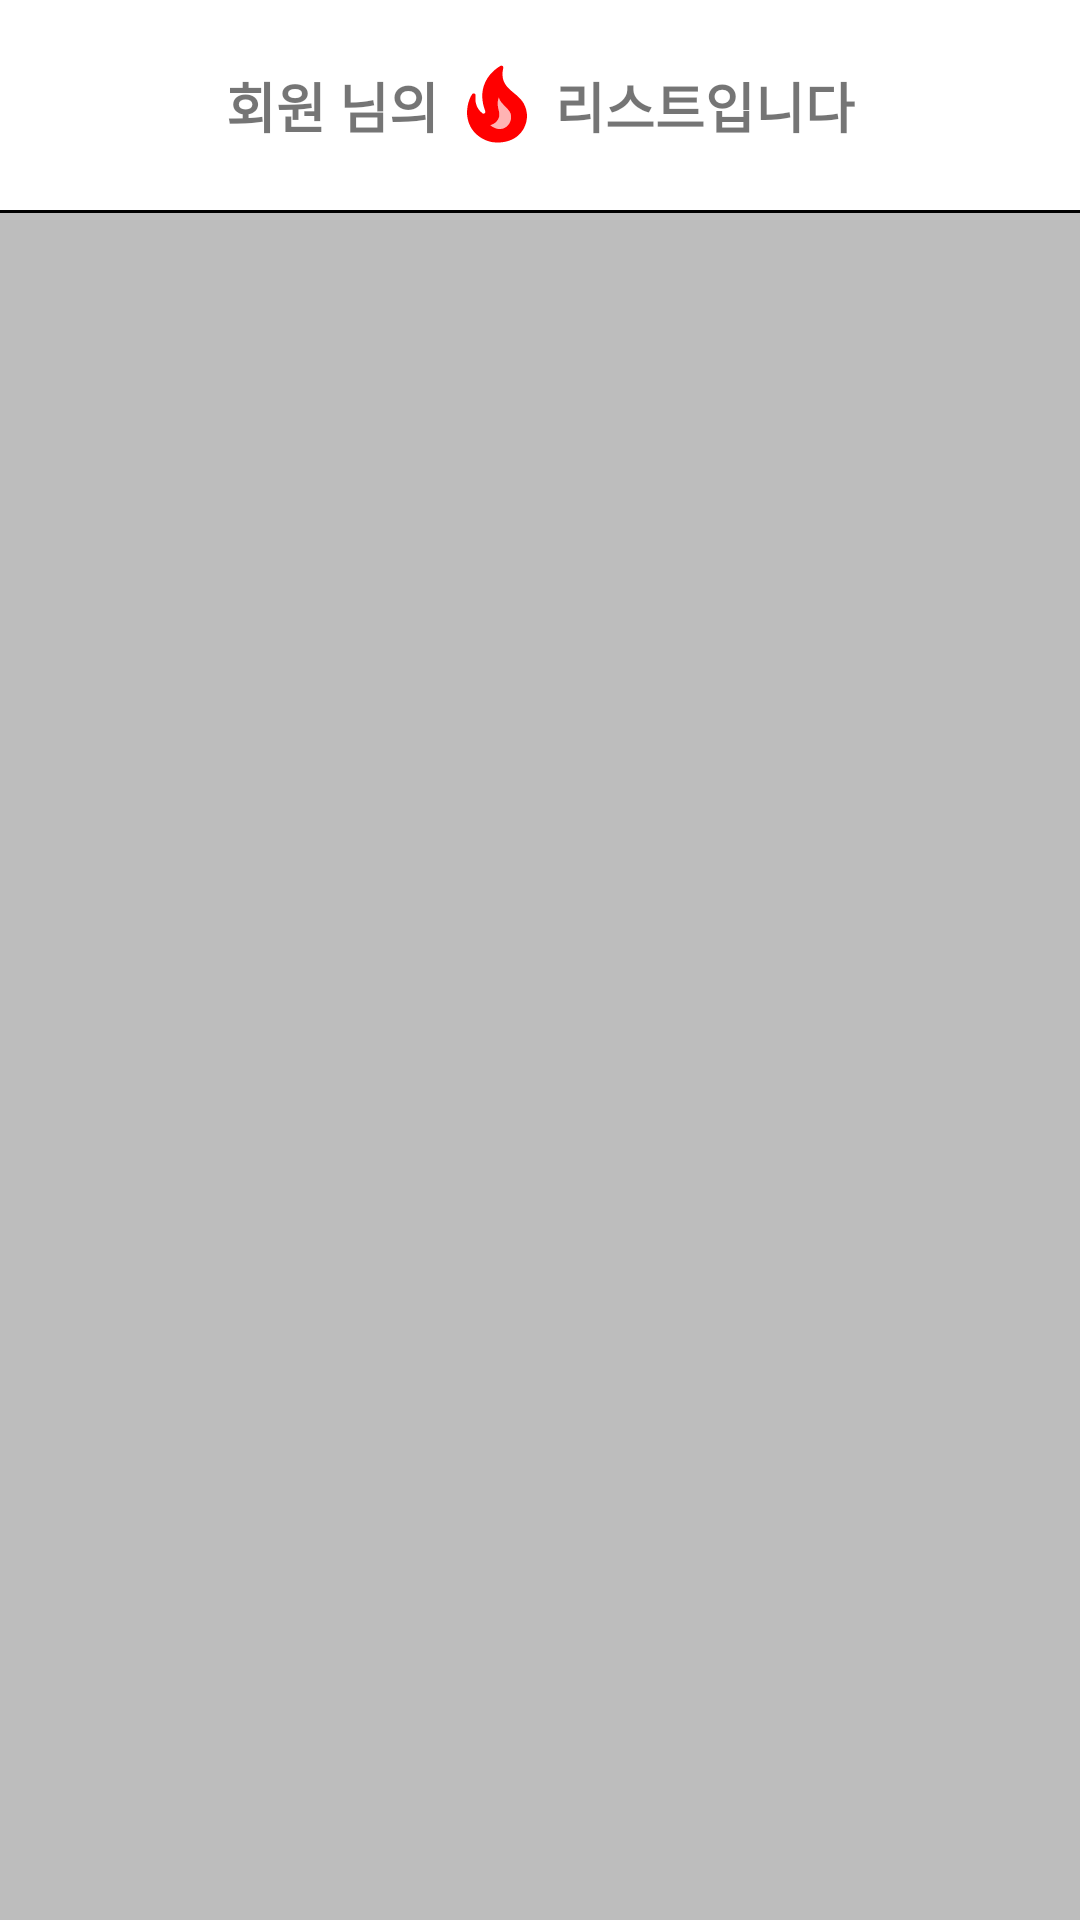

Where to tap for icons on this 1080 x 1920 app screen, as (x,y):
after like: (497,104)
